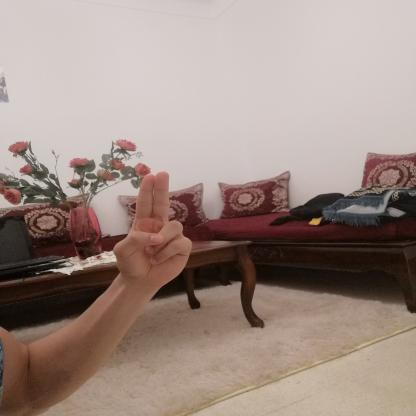TA: (106, 163, 201, 293)
